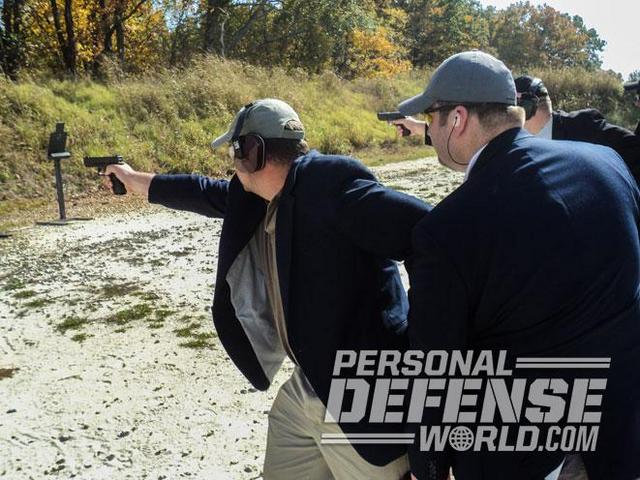pistol: (82, 155, 127, 198), (378, 110, 414, 140)
